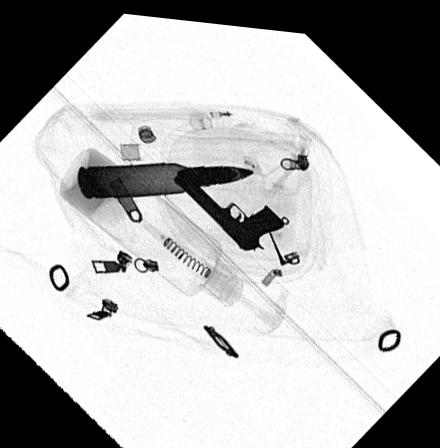Bullet: (76, 158, 255, 199)
Gun: (171, 164, 286, 245)
